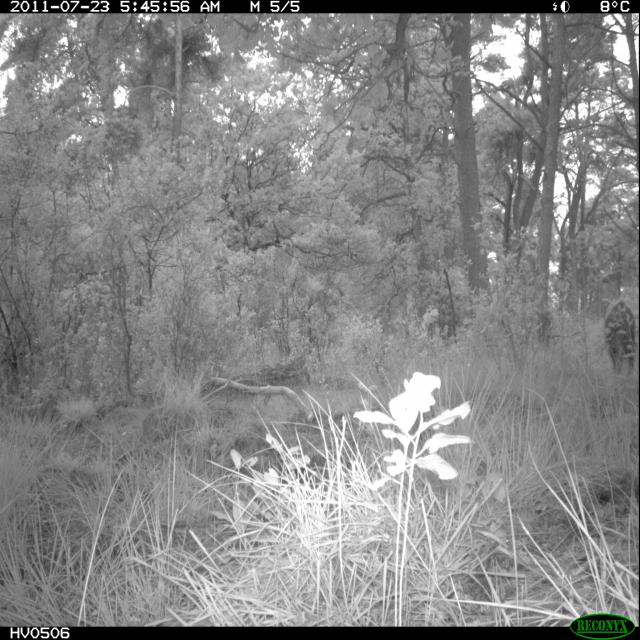boar: (601, 290, 640, 388)
